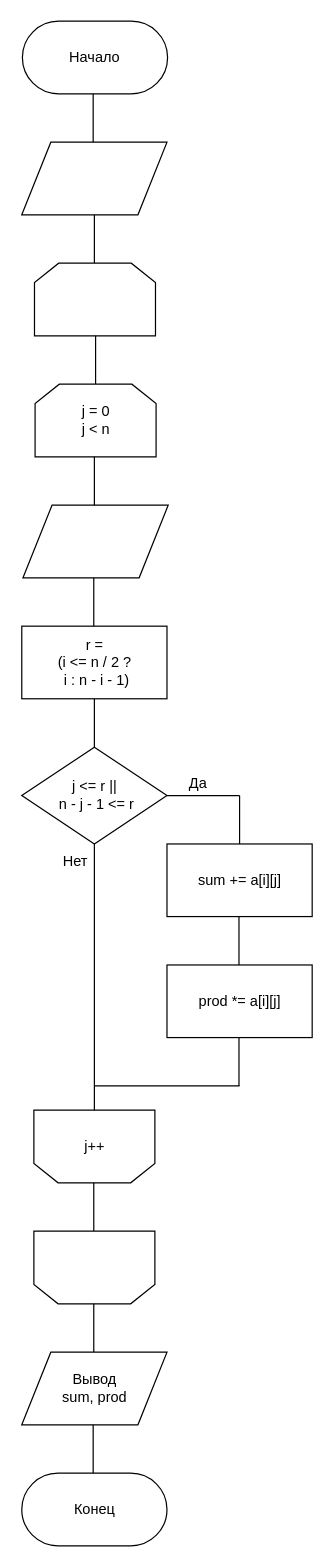
The diagram is 333 pixels wide and 1567 high, and some of its shapes have lost their labels. Each missing label, with the centre of its shape:
"i = 0 i < n" goes at point 94,299.
"i++" goes at point 94,1267.
"Ввод a[i][j]" goes at point 95,541.
"Ввод n" goes at point 94,178.
